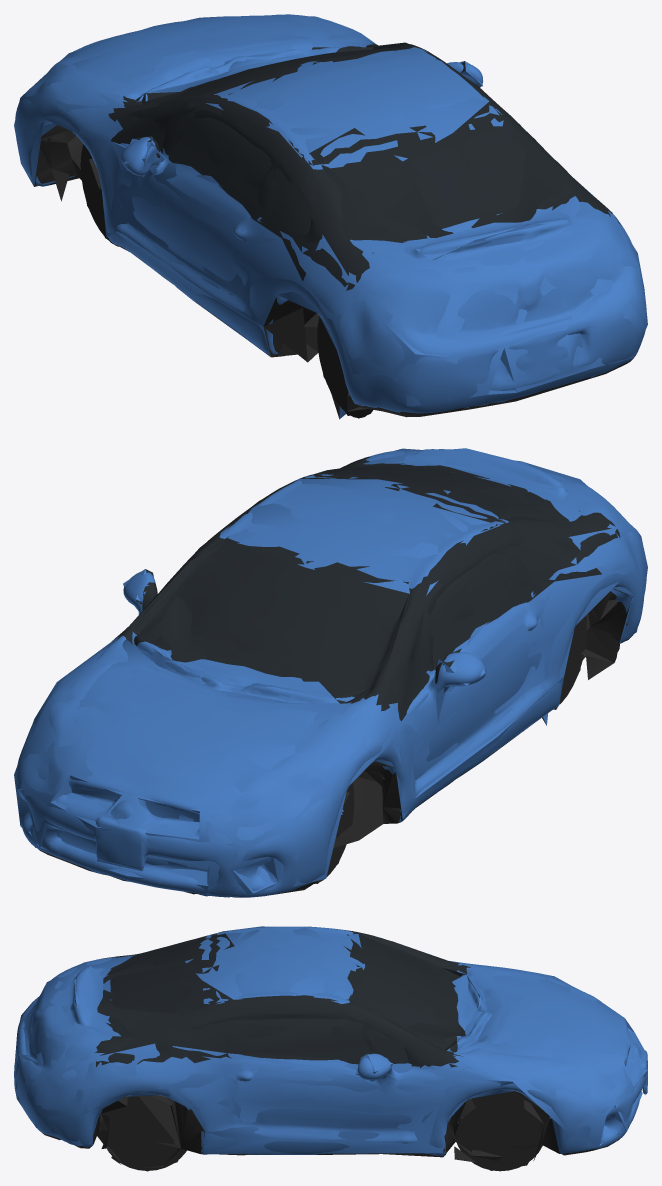
Rendered from mitsubishi-eclipse.glb.
3 views of the same model, one above another, from view 1: azimuth 30°, elevation 25°; view 2: azimuth 150°, elevation 25°; view 3: azimuth 270°, elevation 25° (orthographic). The views are drawn at different scales.
Visible parts, largest first — view 1: body, far; view 2: body, far; view 3: body, far.
Part boxes in pixels (x1,y1,x2,y2): body: (15,14,646,418); far: (14,16,647,419); body: (17,449,646,897); far: (14,448,647,896); body: (14,926,647,1171); far: (14,926,647,1171).
Bounding box in the file's own units: 2.26 × 1.48 × 4.61.
